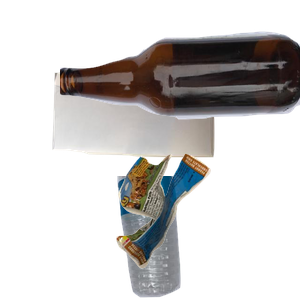glass: (60, 29, 300, 141)
paper: (50, 61, 257, 211)
plastic: (115, 176, 288, 300)
trash: (114, 151, 300, 300)
